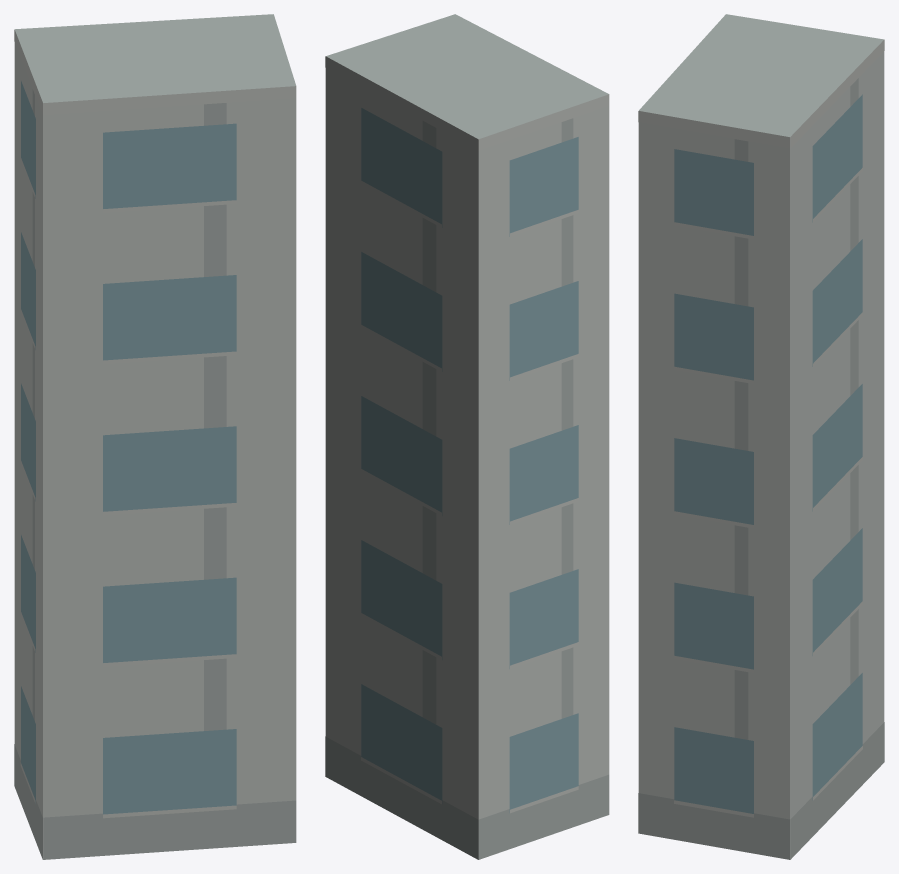
Rendered from survey-upis-32820217.glb.
The picture shows the model from 3 angles, left to right: view 1: azimuth 30°, elevation 25°; view 2: azimuth 150°, elevation 25°; view 3: azimuth 270°, elevation 25°; orthographic projection. The views are drawn at different scales.
Visible parts, largest first — view 1: survey-upis-32820217.tmp; view 2: survey-upis-32820217.tmp; view 3: survey-upis-32820217.tmp.
Boxes of the visible parts, left/top/right/bottom form: survey-upis-32820217.tmp: left=14, top=14, right=296, bottom=859; survey-upis-32820217.tmp: left=325, top=14, right=609, bottom=859; survey-upis-32820217.tmp: left=638, top=14, right=884, bottom=859.
Size of the model in its own units: 5.58 by 15.25 by 4.71.
